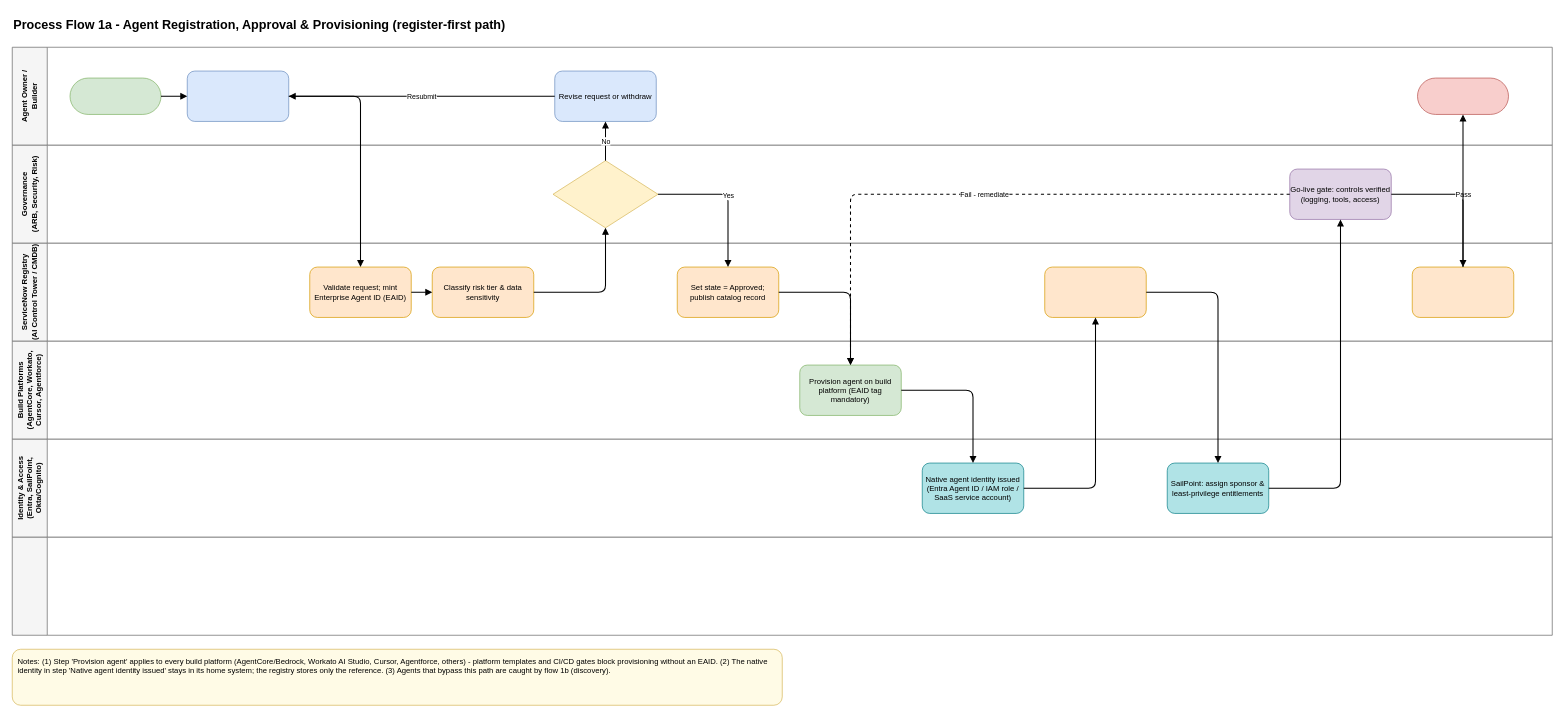
Image size: 1565x718. Some labels were removed from this diagram. Each missing label, with the centre of its shape:
Agent live & governed (continues in 1b): point 1462,95
Approved? (ARB / Security by tier): point 605,194
Link native ID(s) to EAID (crosswalk): point 1095,291
Need a new agent (any build platform): point 115,95
NHI Discovery (Oasis / SlashID): point 782,586
State = Active; notify owner: point 1463,291
Submit agent registration request (purpose, owner, platform, data, tools): point 238,95
